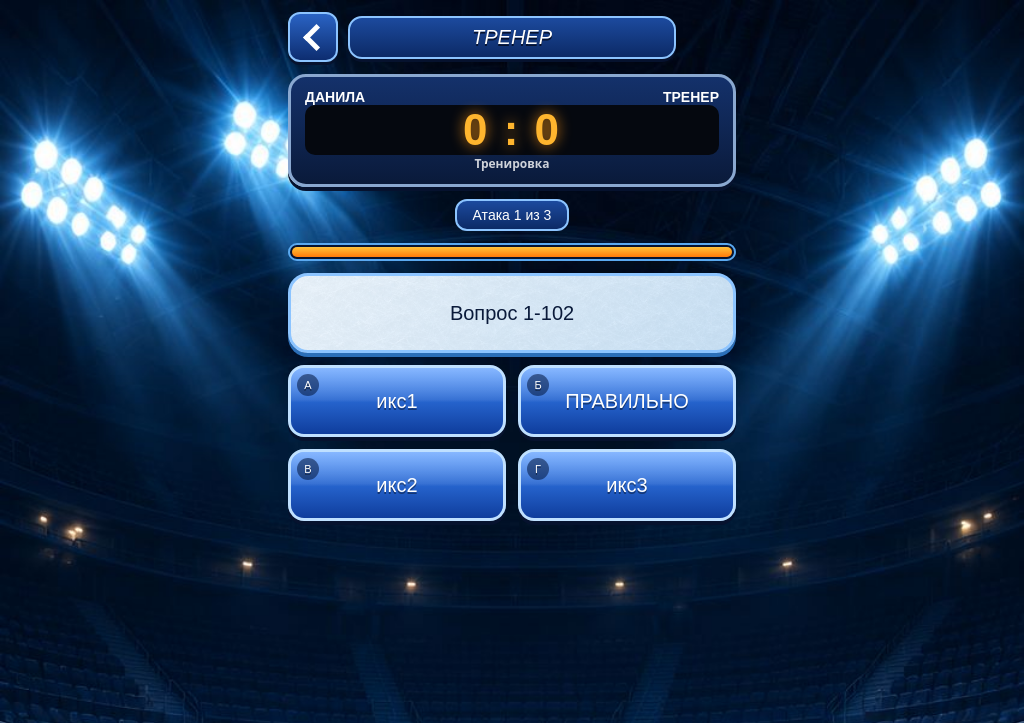
Test case: подсказки тренера › trainingBubblesShownPerAnswer
This screenshot has width=1024, height=723.
Step 1. Click the button with class "ans" showing "Б ПРАВИЛЬНО" → (627, 401), box [518,365,736,437]
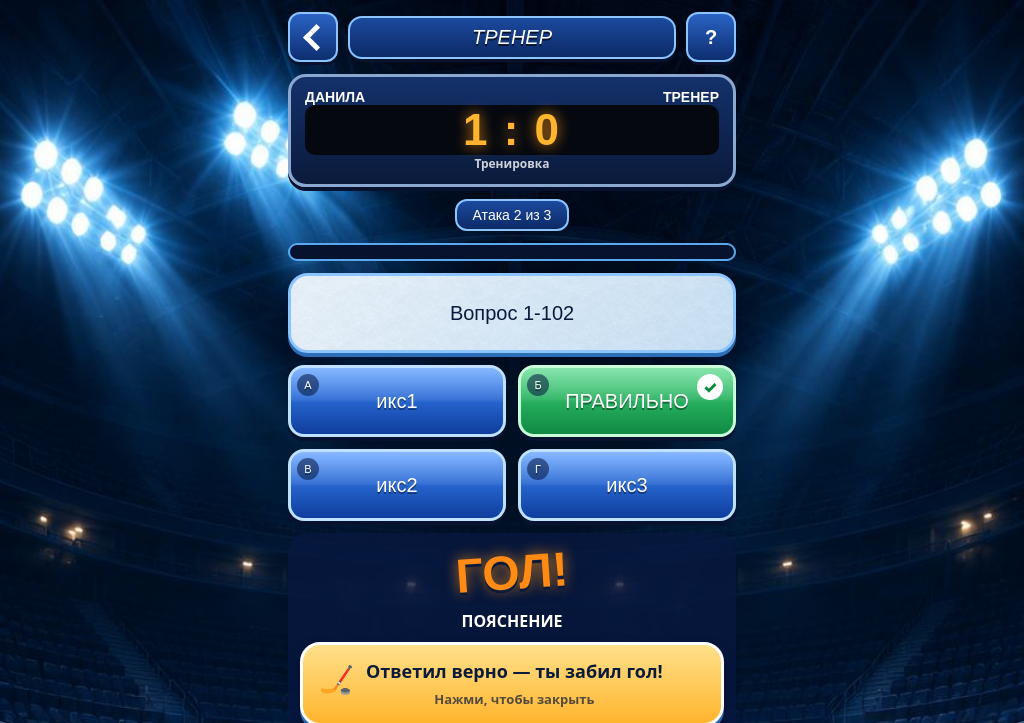
Now the text "Ответил верно — ты забил гол!" is shown
Step 2. Click the text "Ответил верно — ты забил гол!" → (514, 671), box [366,659,663,683]
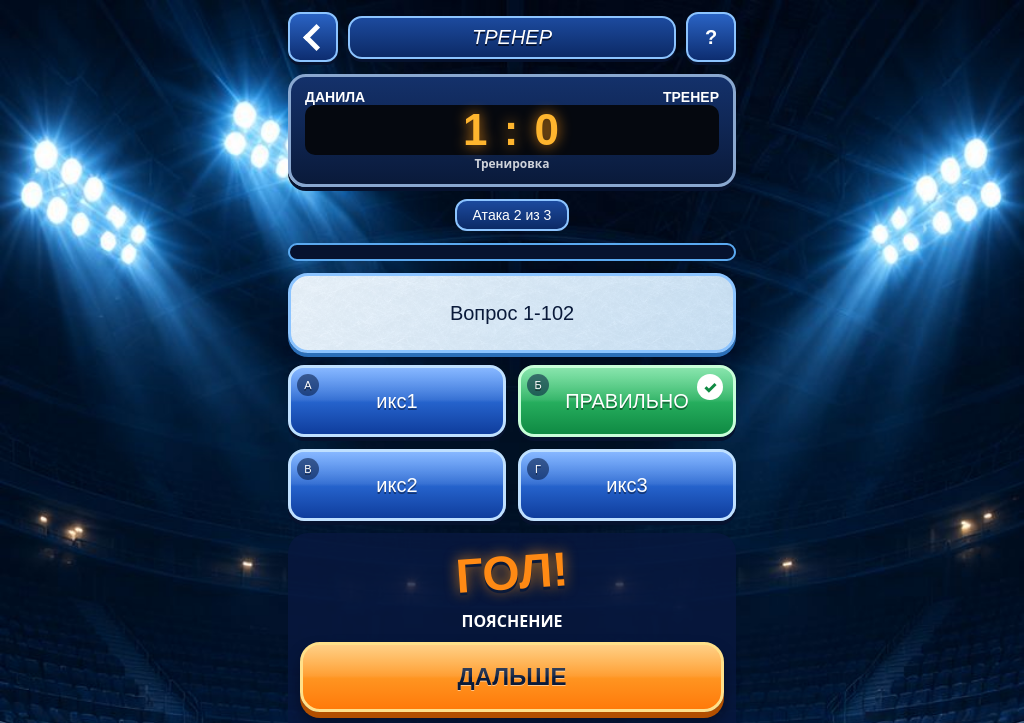
Step 3. Click the button "Дальше" → (512, 677), box [300,642,724,712]
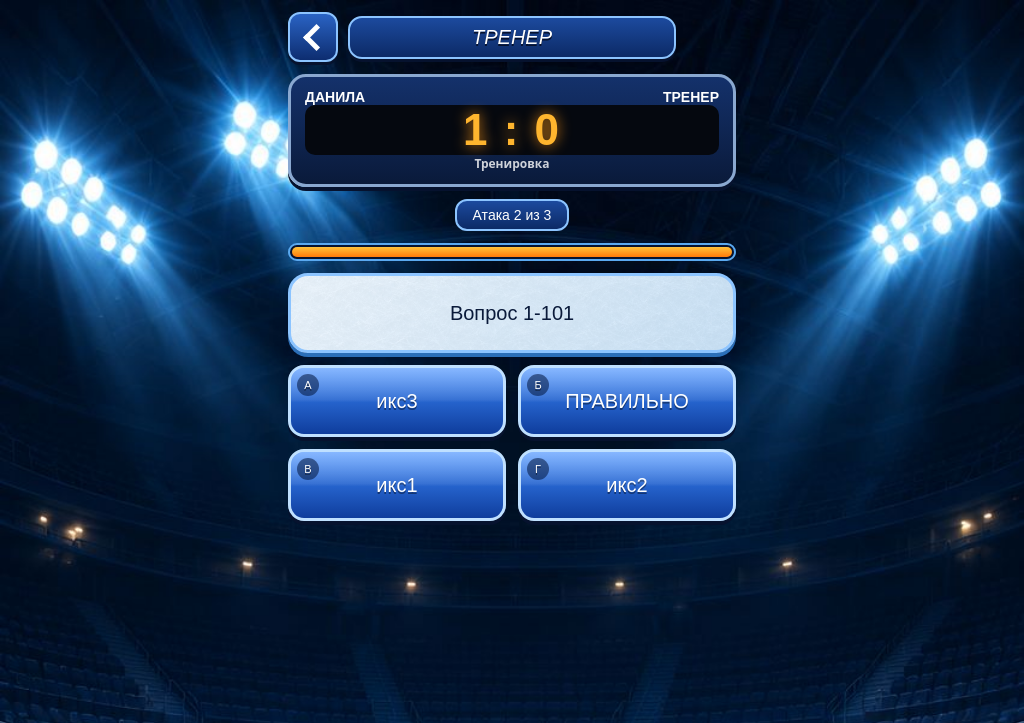
Step 4. Click the button with class "ans" showing "А икс3" → (397, 401), box [288,365,506,437]
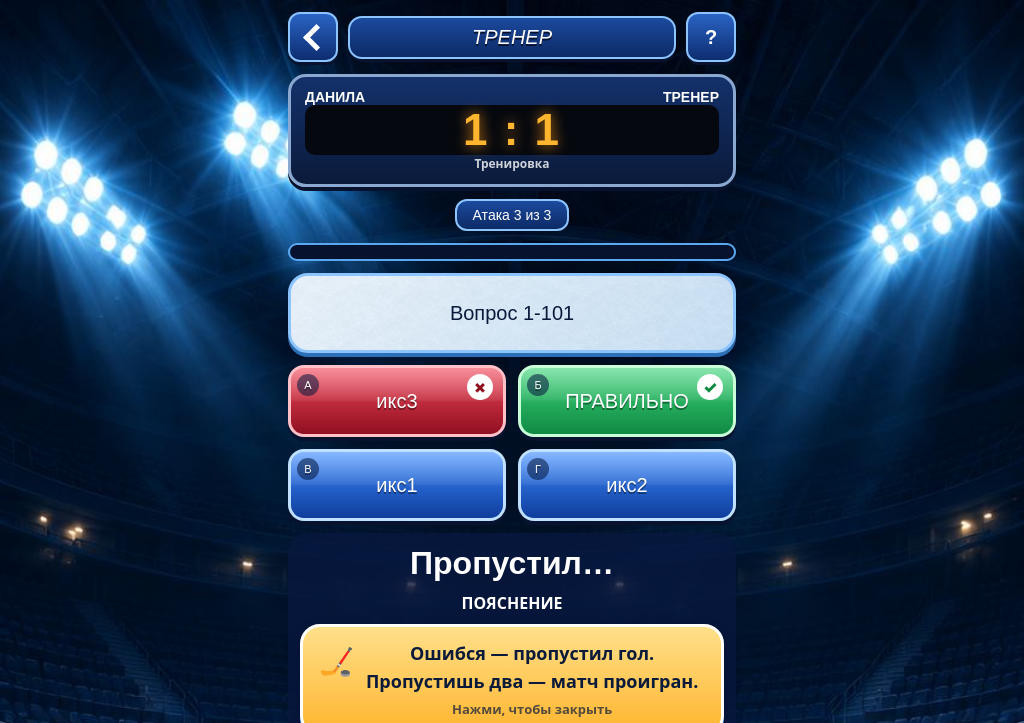
Now the text "Ошибся — пропустил гол." is shown, box [410,641,654,665]
